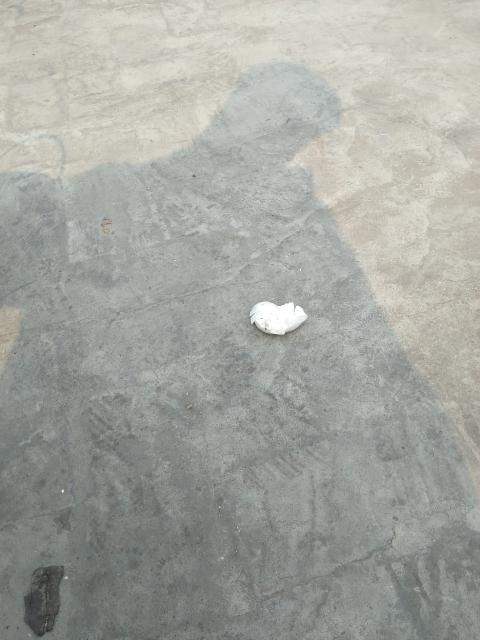Roto: (248, 300, 308, 335)
